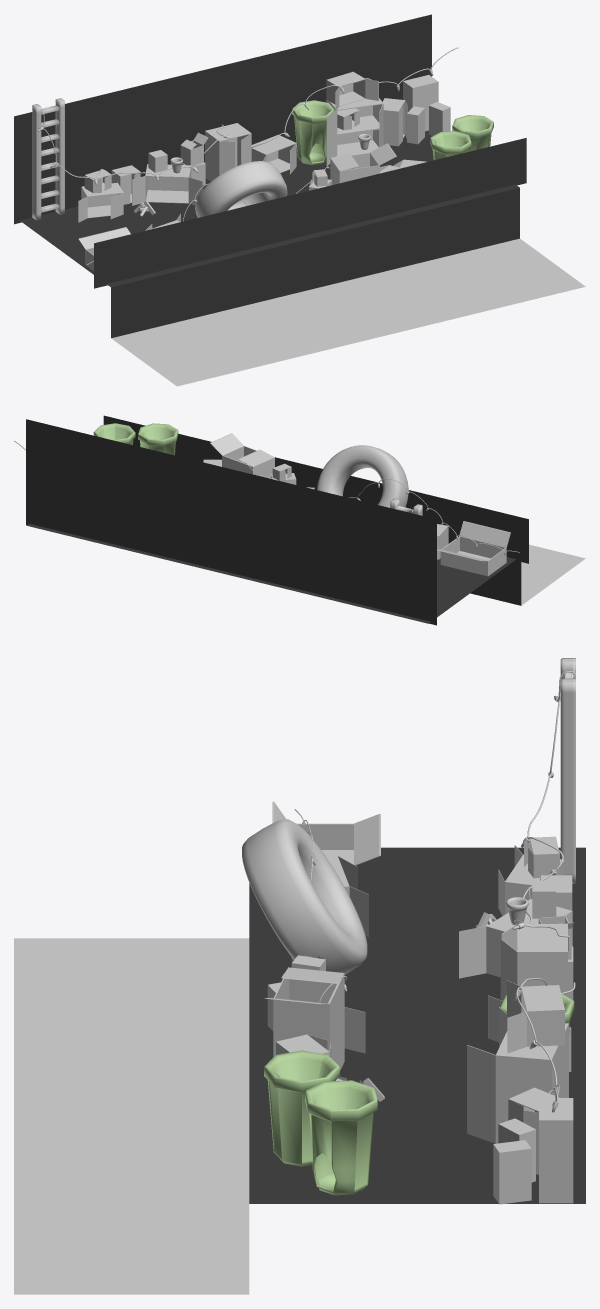
File: Miasto.fbx
The picture shows the model from 3 angles, top to bottom: view 1: azimuth 30°, elevation 25°; view 2: azimuth 150°, elevation 25°; view 3: azimuth 270°, elevation 25°; orthographic projection. The views are drawn at different scales.
Visible parts, largest first — view 1: fence, Sewers, tire, ladder, box9, box4, trash, box24, box8, box6, box19, box22 (+12 smaller); view 2: fence, tire, box25, Sewers, box24, trash.001, trash.002, 3 lights, box23; view 3: Sewers, fence, tire, trash.002, trash.001, box24, box6, box4, box10, box8, ladder, box25 (+12 smaller).
Boxes of the visible parts, box(x1,y1,x2,y2) form: fence: box(14, 14, 526, 338); Sewers: box(111, 238, 585, 386); tire: box(195, 161, 287, 217); ladder: box(32, 98, 64, 220); box9: box(132, 164, 202, 205); box4: box(205, 123, 251, 181); trash: box(292, 100, 334, 165); box24: box(330, 143, 396, 184); box8: box(326, 71, 378, 111); box6: box(326, 98, 383, 140); box19: box(78, 182, 123, 222); box22: box(251, 134, 296, 174); fence: box(26, 415, 528, 625); tire: box(317, 445, 408, 507); box25: box(437, 521, 510, 576); Sewers: box(521, 544, 585, 605); box24: box(210, 433, 274, 478); trash.001: box(138, 423, 178, 455); trash.002: box(93, 423, 135, 444); 3 lights: box(247, 464, 519, 555); box23: box(437, 524, 448, 559); Sewers: box(14, 938, 249, 1294); fence: box(249, 847, 585, 1203); tire: box(242, 819, 367, 974); trash.002: box(305, 1080, 377, 1195); trash.001: box(264, 1050, 339, 1166); box24: box(264, 967, 344, 1070); box6: box(467, 1007, 568, 1100); box4: box(500, 924, 567, 1000); box10: box(539, 1098, 573, 1203); box8: box(507, 980, 564, 1053); ladder: box(560, 658, 575, 883); box25: box(272, 801, 380, 865).
Bounding box in the file's own units: 2828 × 993 × 1767.
